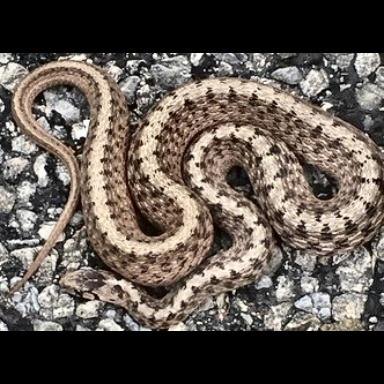snake: (11, 61, 378, 319)
